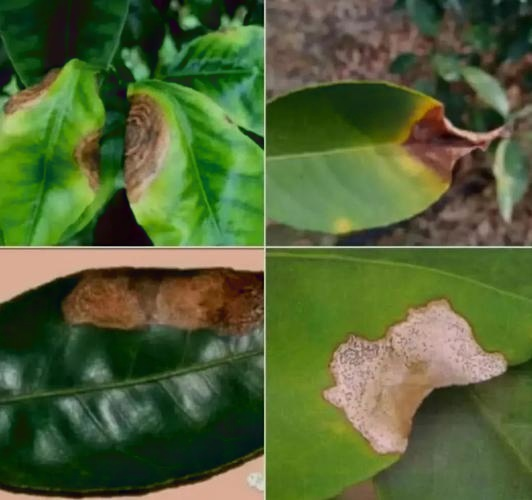Anthracnose: (313, 306, 507, 443), (23, 51, 176, 193), (26, 262, 255, 343), (395, 99, 500, 188)
